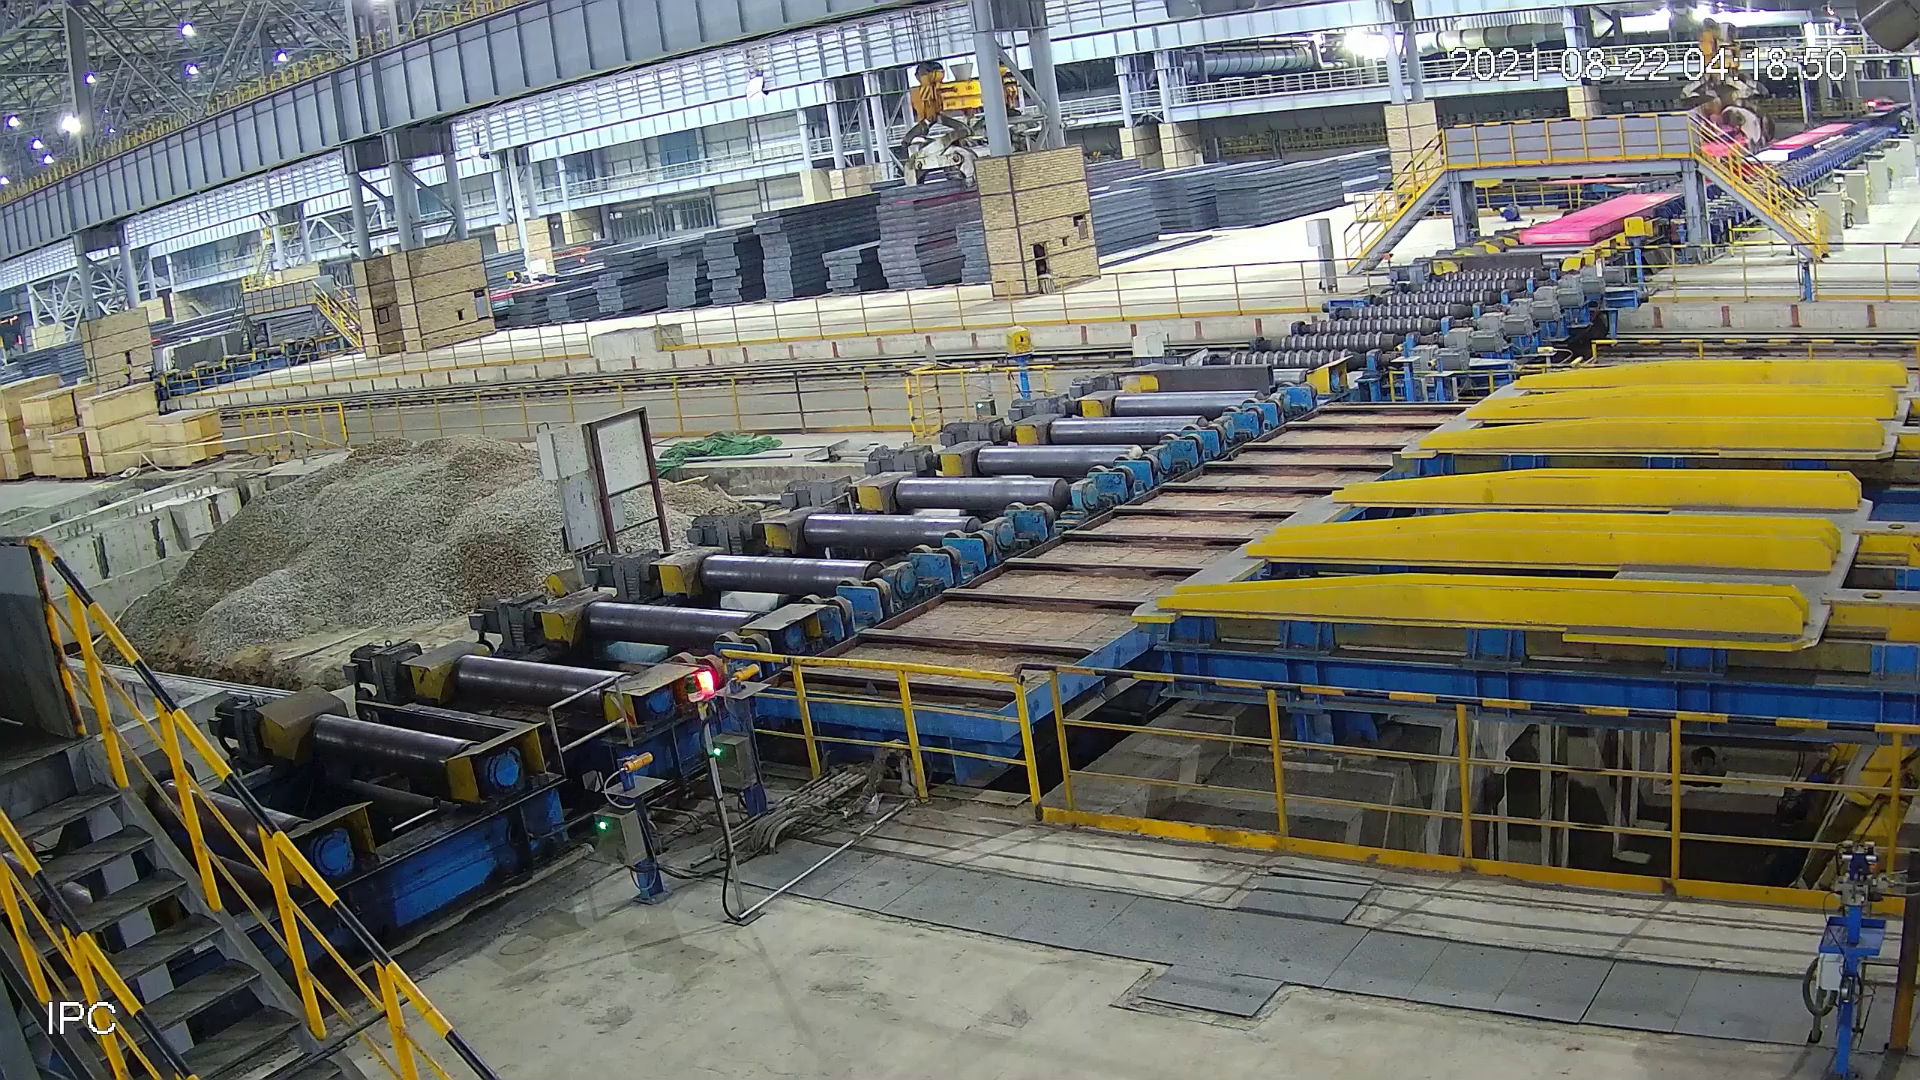craneandslab: (1664, 13, 1792, 167)
slab: (1507, 193, 1695, 248)
